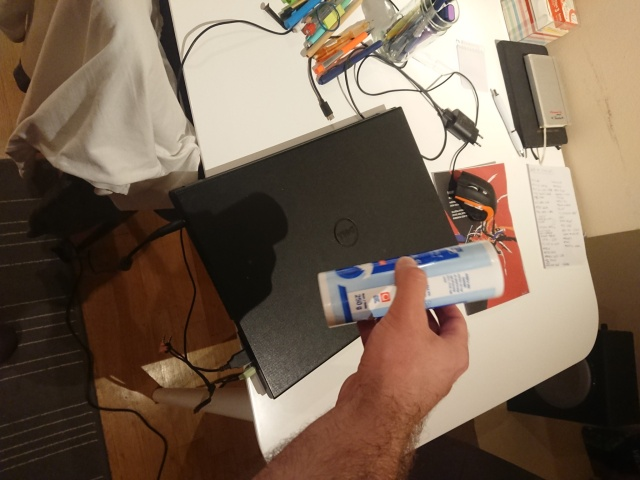Solana Pag Fine Sea Salt 250g: (315, 239, 507, 329)
